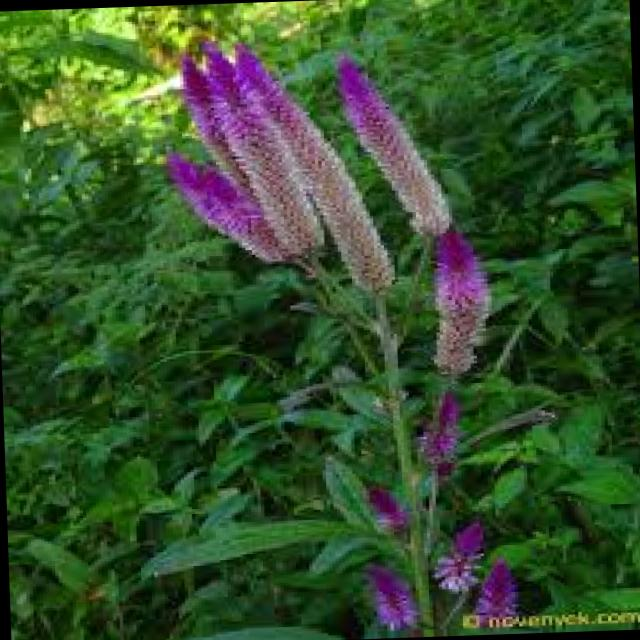Celosia-Argentea: (158, 32, 395, 302), (334, 50, 456, 242), (426, 231, 490, 374), (429, 518, 492, 594), (365, 562, 420, 634), (467, 559, 522, 627), (415, 388, 461, 468), (365, 484, 410, 537)
